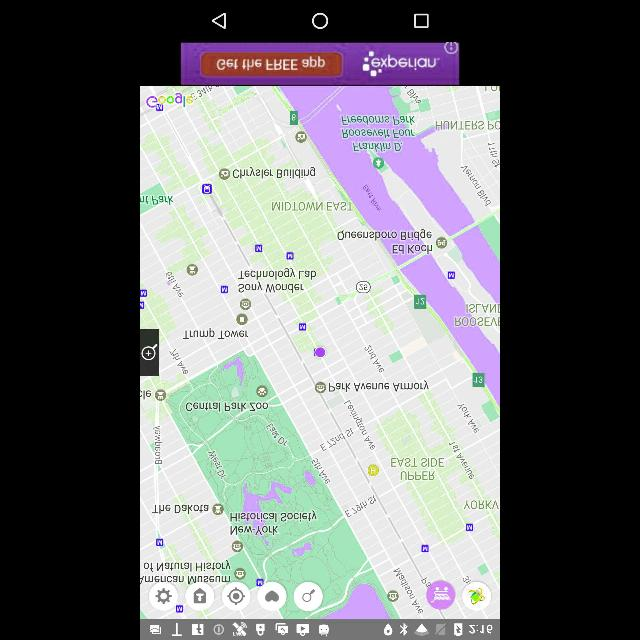icon: (462, 581, 492, 611), (186, 581, 214, 611), (222, 581, 250, 611), (257, 582, 287, 610), (294, 582, 324, 610), (427, 580, 455, 610), (150, 582, 178, 610), (211, 12, 227, 30), (312, 12, 328, 30), (413, 14, 429, 28)
iframe: (141, 42, 499, 86)
map: (140, 86, 500, 620)
panel: (140, 1, 500, 42)
uppertaskbar: (141, 620, 499, 638)
